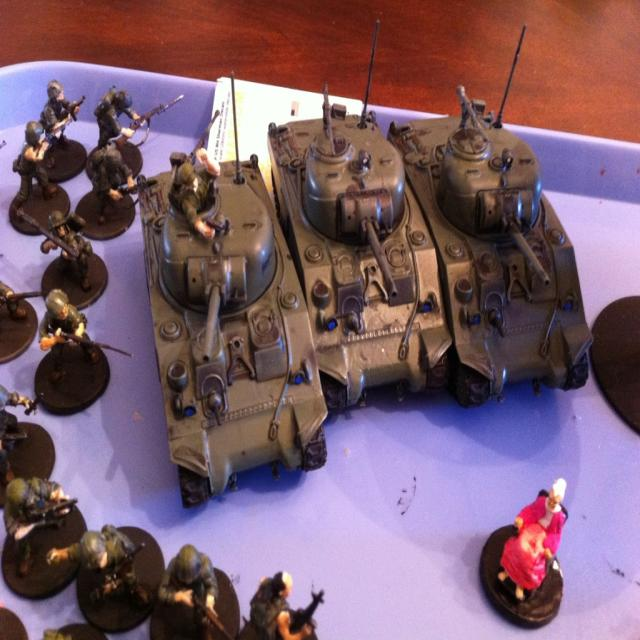tank: (134, 69, 330, 510), (387, 19, 594, 407), (267, 19, 455, 418)
